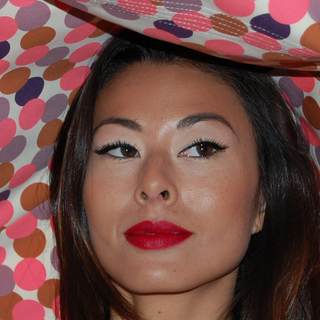eye: (178, 136, 227, 163), (94, 138, 142, 163)
